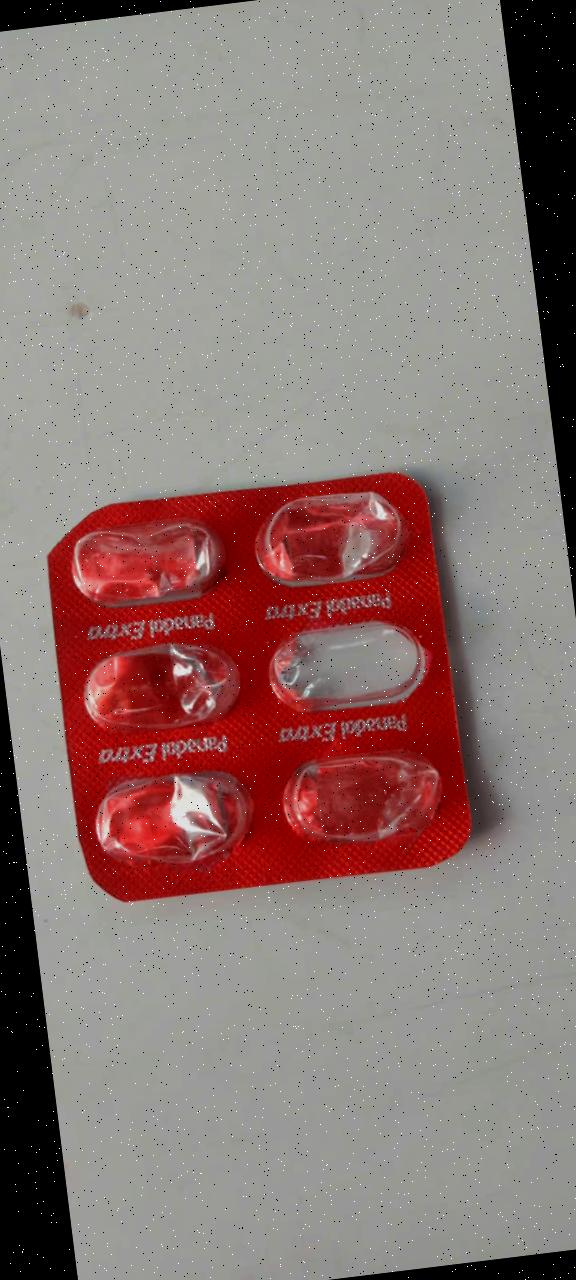Empty: (268, 740, 457, 861), (79, 759, 268, 880), (249, 602, 438, 723), (61, 626, 250, 747), (236, 475, 425, 596), (47, 501, 236, 622)
